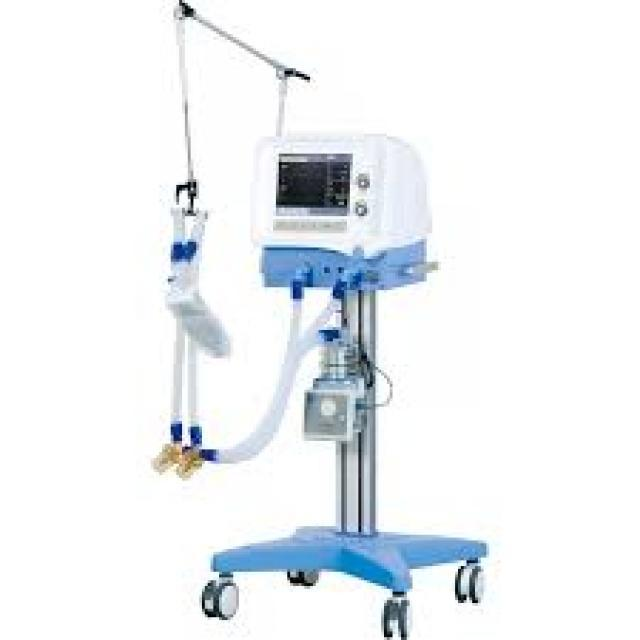ventilator: (147, 20, 484, 626)
